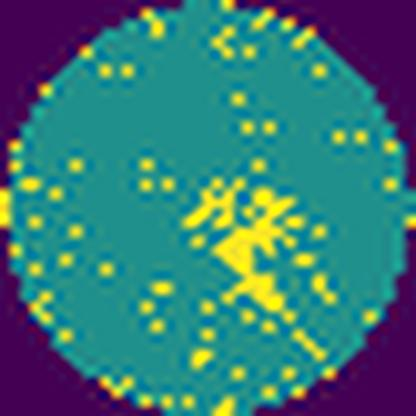Loc: (212, 184, 301, 327), (180, 174, 236, 233)
